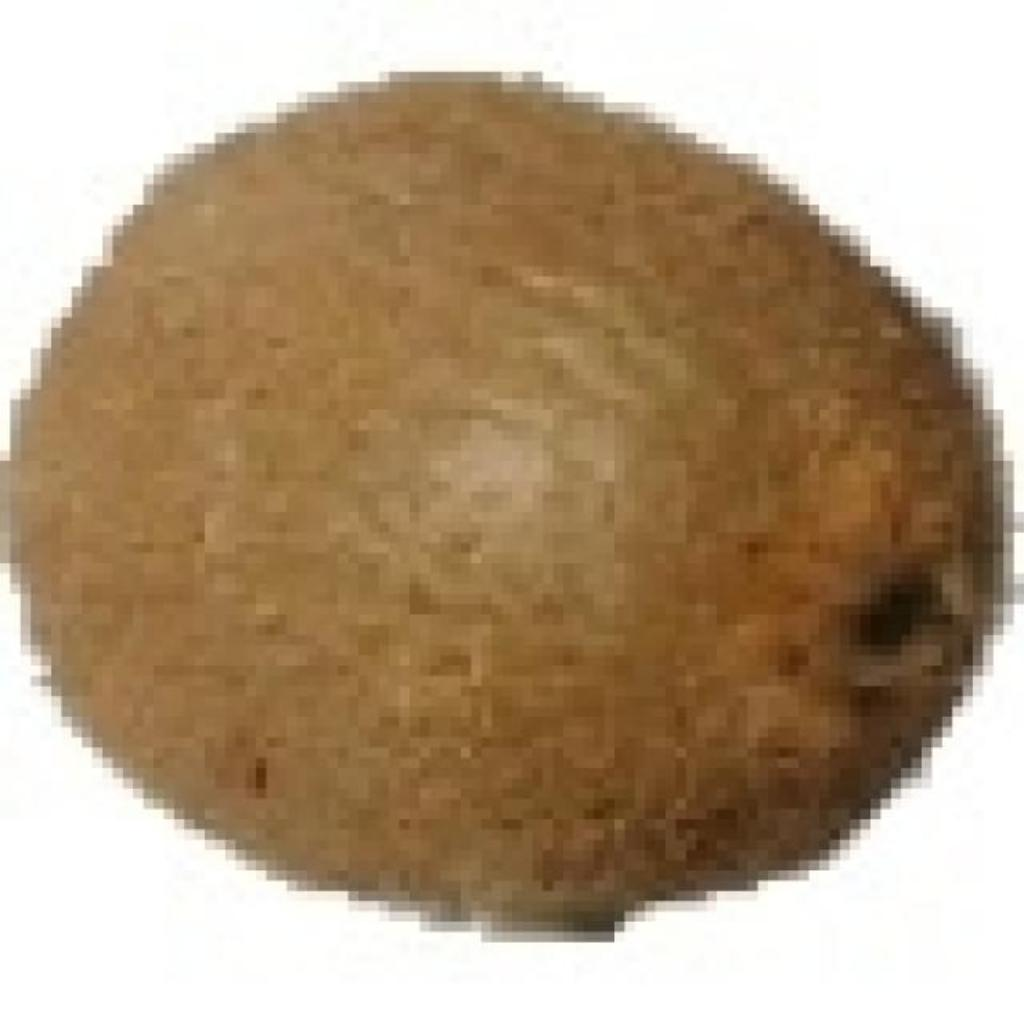kiwi: (10, 61, 983, 911)
